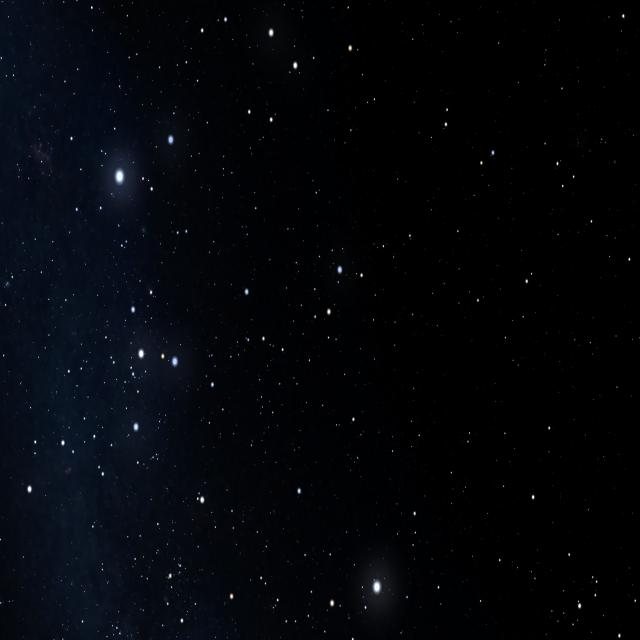Columba: (257, 264, 365, 499)
